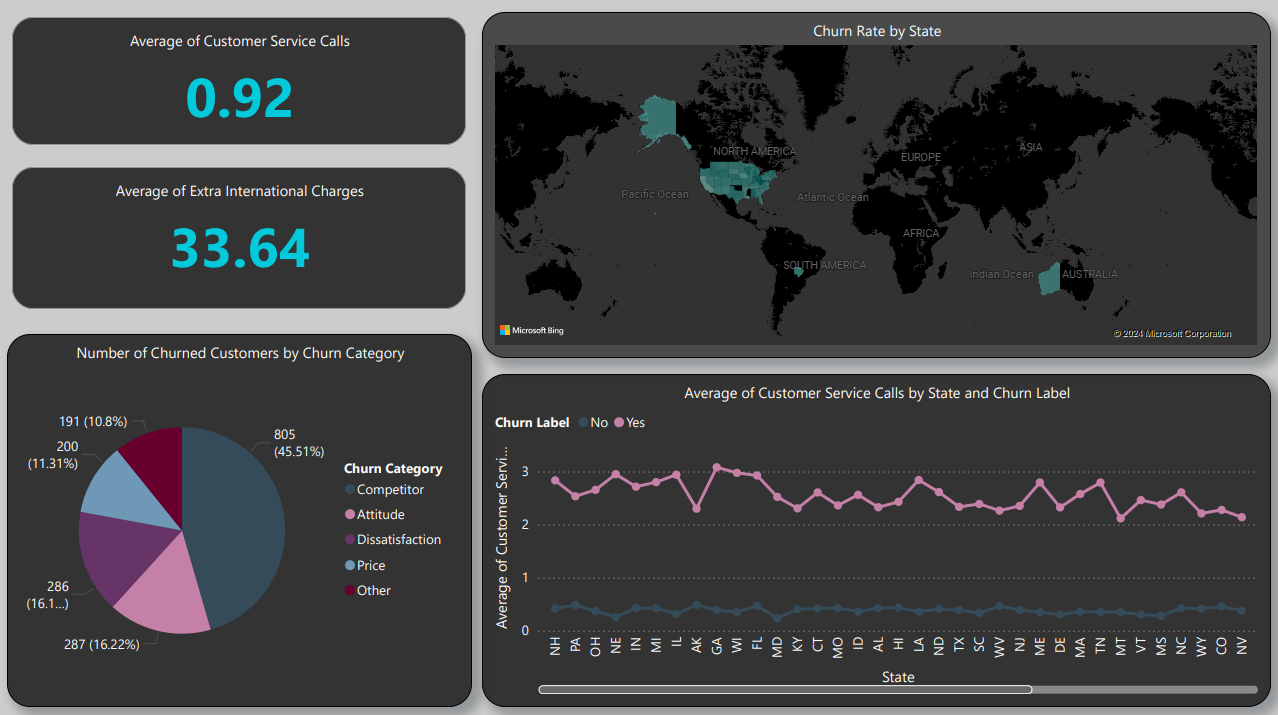

This screenshot's page, from the dashboard's own definition file:
{"tool":"powerbi","page":{"name":"Insights ","canvas":[1280,720],"ordinal":4},"visuals":[{"type":"lineChart","fields":{"Y":["Avg(Databel - Data.Customer Service Calls)"],"Series":["Databel - Data.Churn Label"],"Category":["Databel - Data.State"]},"box":[482.1,375.8,788.4,333.7],"z":0},{"type":"filledMap","fields":{"Category":["Databel - Data.State"]},"box":[482.1,13.7,788.4,346.3],"z":1000},{"type":"cardVisual","fields":{"Data":["Avg(Databel - Data.Customer Service Calls)"]},"box":[7.4,13.7,464.2,138.9],"z":2000},{"type":"cardVisual","fields":{"Data":["Avg(Databel - Data.Extra International Charges)"]},"box":[7.4,164.2,464.2,152.6],"z":3000},{"type":"pieChart","fields":{"Category":["Databel - Data.Churn Category"],"Y":["Databel - Data.Number of Churned Customers"]},"box":[7.4,335.8,464.2,373.7],"z":4000}]}

Visuals, with their boxes in screenshot pixels (x1, y1, x2, y2), scaled from the page's 1280x720 canvas onto the 1278x715 screenshot:
lineChart - Avg(Databel - Data.Customer Service Calls) x Databel - Data.Churn Label: locate(481, 373, 1269, 705)
filledMap - Databel - Data.State: locate(481, 14, 1269, 358)
cardVisual - Avg(Databel - Data.Customer Service Calls): locate(7, 14, 471, 152)
cardVisual - Avg(Databel - Data.Extra International Charges): locate(7, 163, 471, 315)
pieChart - Databel - Data.Churn Category x Databel - Data.Number of Churned Customers: locate(7, 333, 471, 705)
